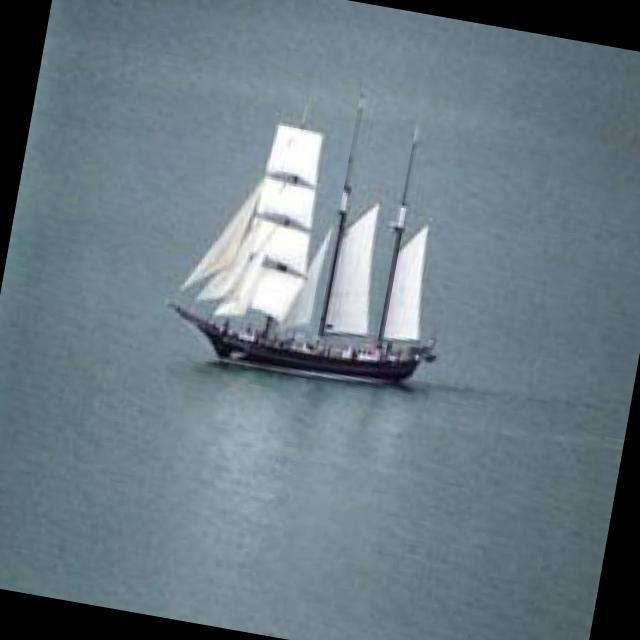boat: (150, 121, 502, 418)
